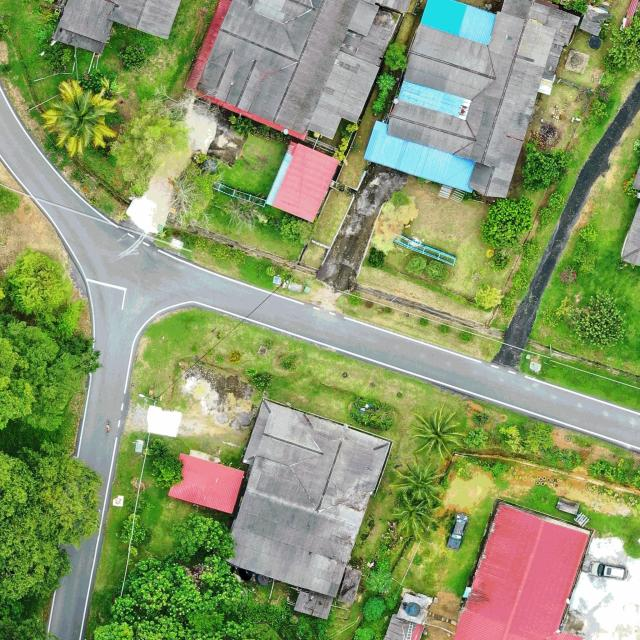Tree: (0, 312, 102, 433), (0, 451, 75, 606), (16, 442, 102, 546), (109, 100, 190, 198), (41, 80, 120, 159), (5, 246, 74, 316), (408, 402, 469, 462), (172, 509, 234, 565), (566, 291, 626, 348), (387, 456, 449, 506), (479, 195, 534, 247), (598, 4, 640, 72), (390, 494, 447, 542), (521, 142, 570, 192), (150, 452, 184, 490), (524, 419, 555, 452), (473, 284, 502, 312), (382, 41, 409, 71), (143, 438, 173, 459), (463, 426, 489, 450), (424, 260, 450, 282), (404, 252, 428, 274)
